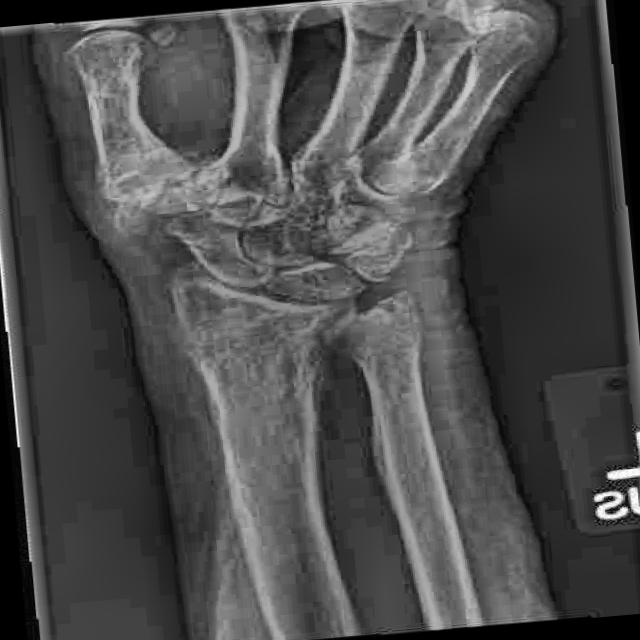wrist positive: (264, 262, 385, 310)
